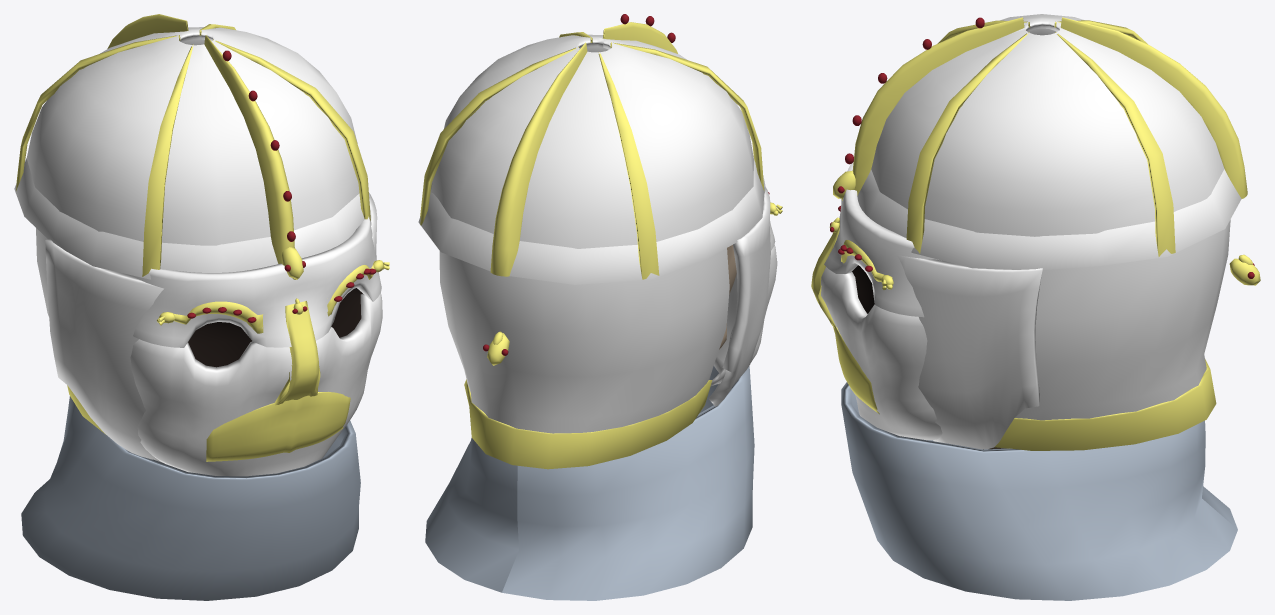
File: helm-warden-suttonhoo.glb
3 renders of one model, left to right at view 1: azimuth 30°, elevation 25°; view 2: azimuth 150°, elevation 25°; view 3: azimuth 270°, elevation 25°, orthographic. The views are drawn at different scales.
Parts seen in each view (by area): view 1: helm-warden-suttonhoo; view 2: helm-warden-suttonhoo; view 3: helm-warden-suttonhoo.
Boxes of the visible parts, x1,y1,x2,y2 form: helm-warden-suttonhoo: (14, 14, 389, 600); helm-warden-suttonhoo: (418, 14, 782, 600); helm-warden-suttonhoo: (811, 14, 1260, 600).
Size of the model in its own units: 0.2533 by 0.3982 by 0.3165.
